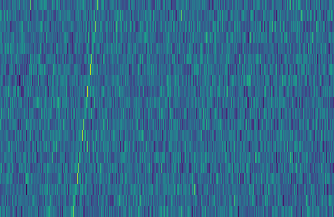signal: (66, 0, 101, 217)
